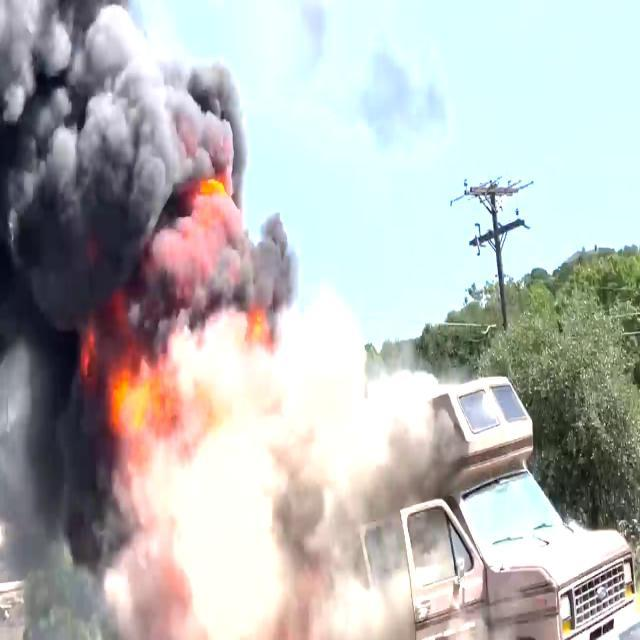Fire: (104, 304, 170, 484)
Smoke: (0, 1, 300, 540), (106, 305, 444, 640)
